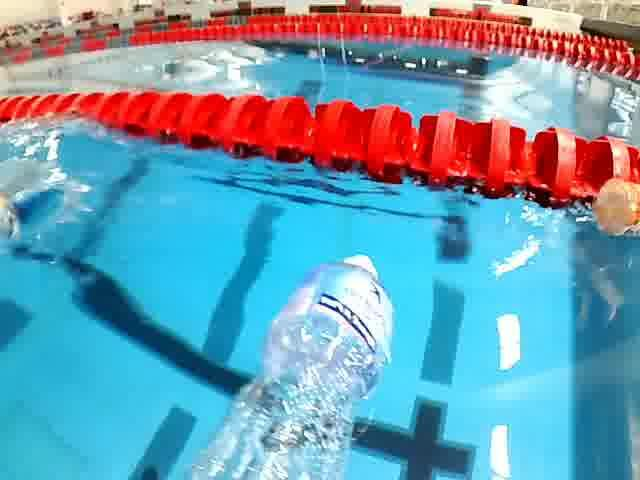Bottle: (174, 252, 395, 480)
